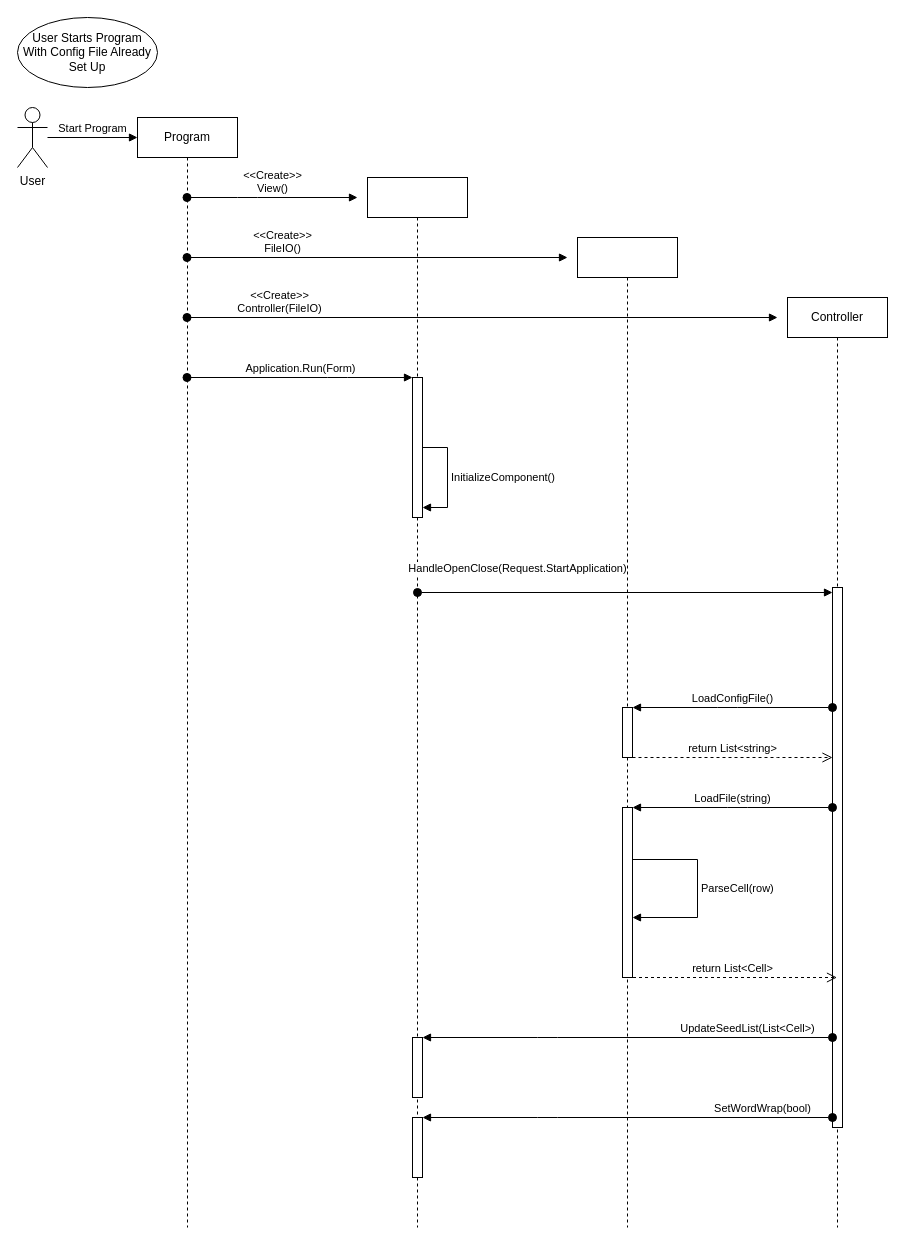
Image size: 905x1245. Some labels were removed from this diagram. The box of each missing label's shape, as (x1, y1, x2, y2) in pixels:
FileIO: (576, 236, 678, 1228)
View: (366, 176, 468, 1228)
